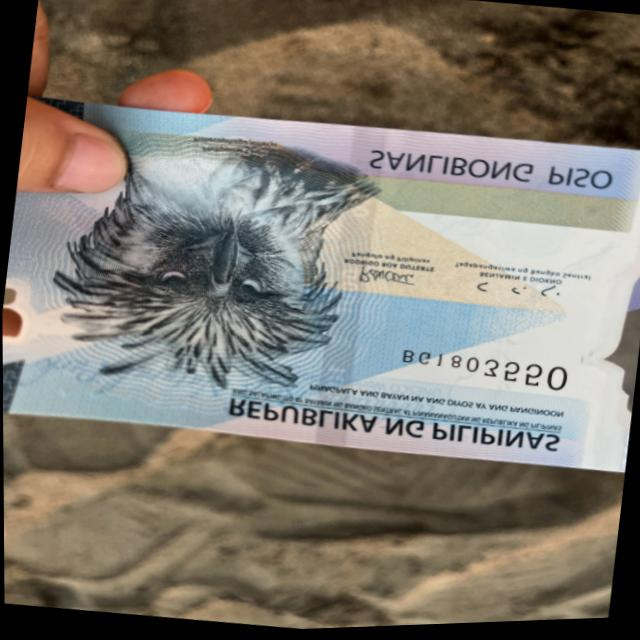eagle: (33, 117, 393, 421)
